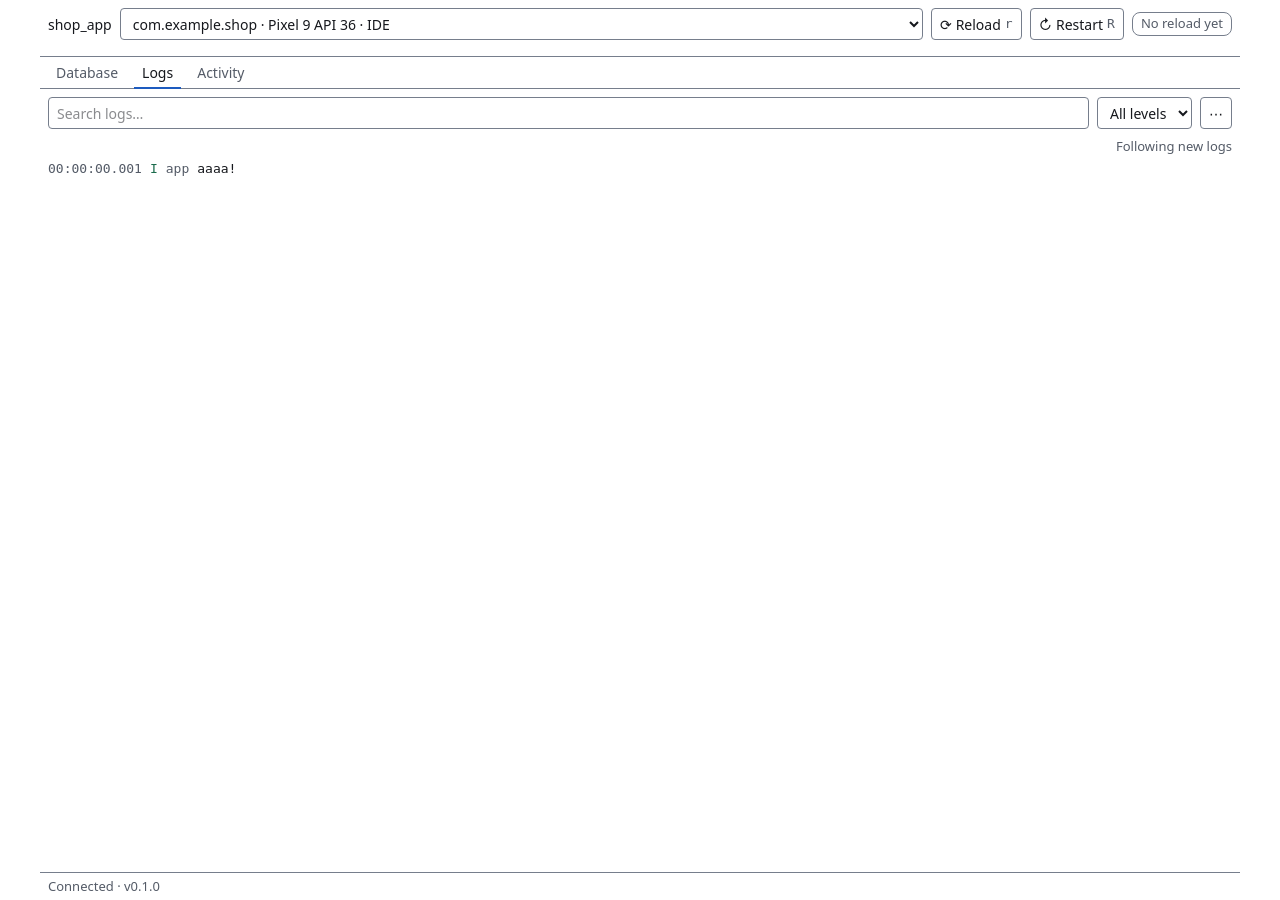
Scenario: search box with a stopped search (BUG-M2-T1) › says the search took too long and shows no unfiltered lines
This screenshot has width=1280, height=900.
Expected: the text "aaaa!" is shown, x1=197 y1=160 x2=236 y2=176
In the search field labelled "Search logs": [568, 113] box x1=48 y1=97 x2=1089 y2=129, type "(a|a)*b"
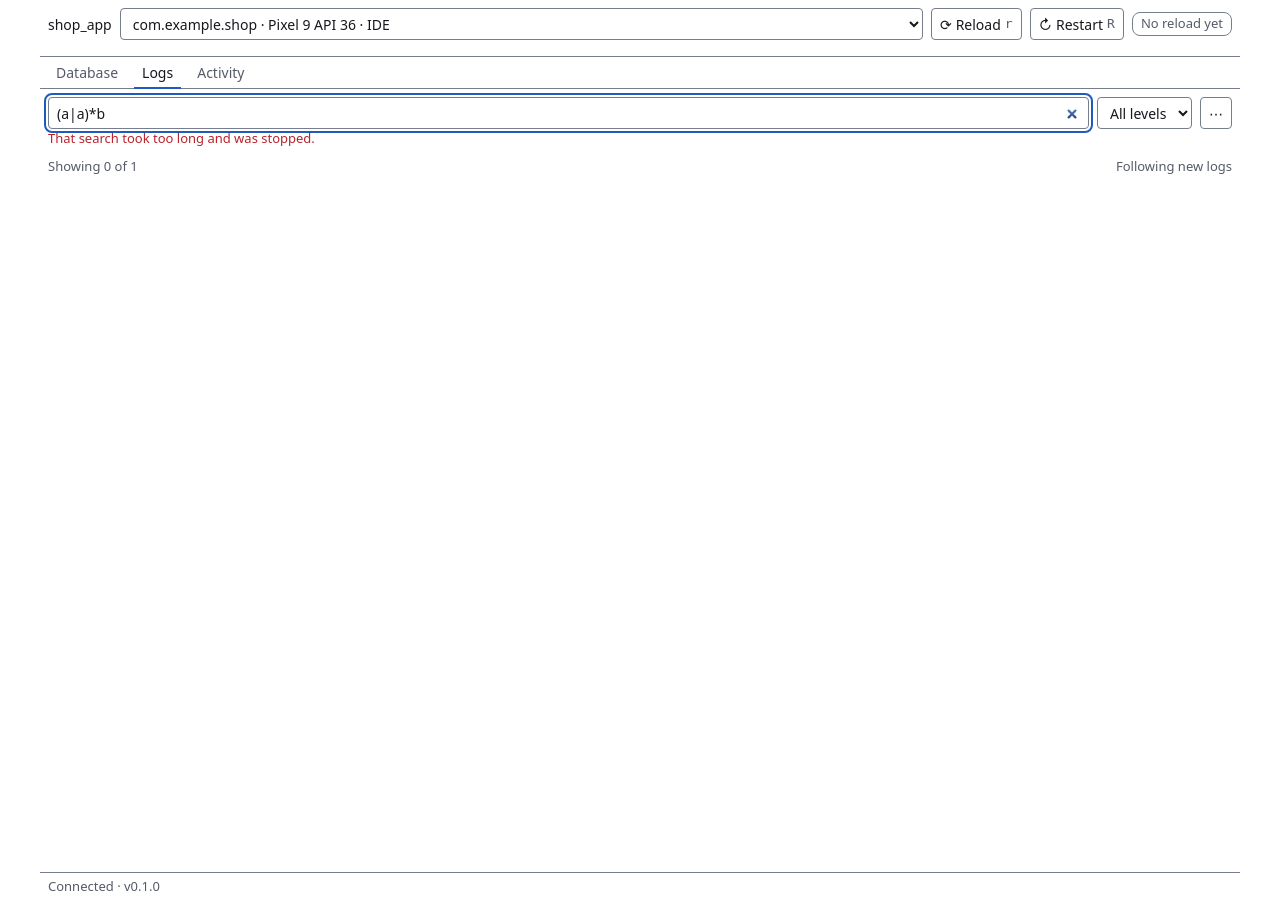
Expected: the text "That search took too long and was stopped." is shown, x1=48 y1=129 x2=315 y2=147
Expected: the text "aaaa!" is gone
